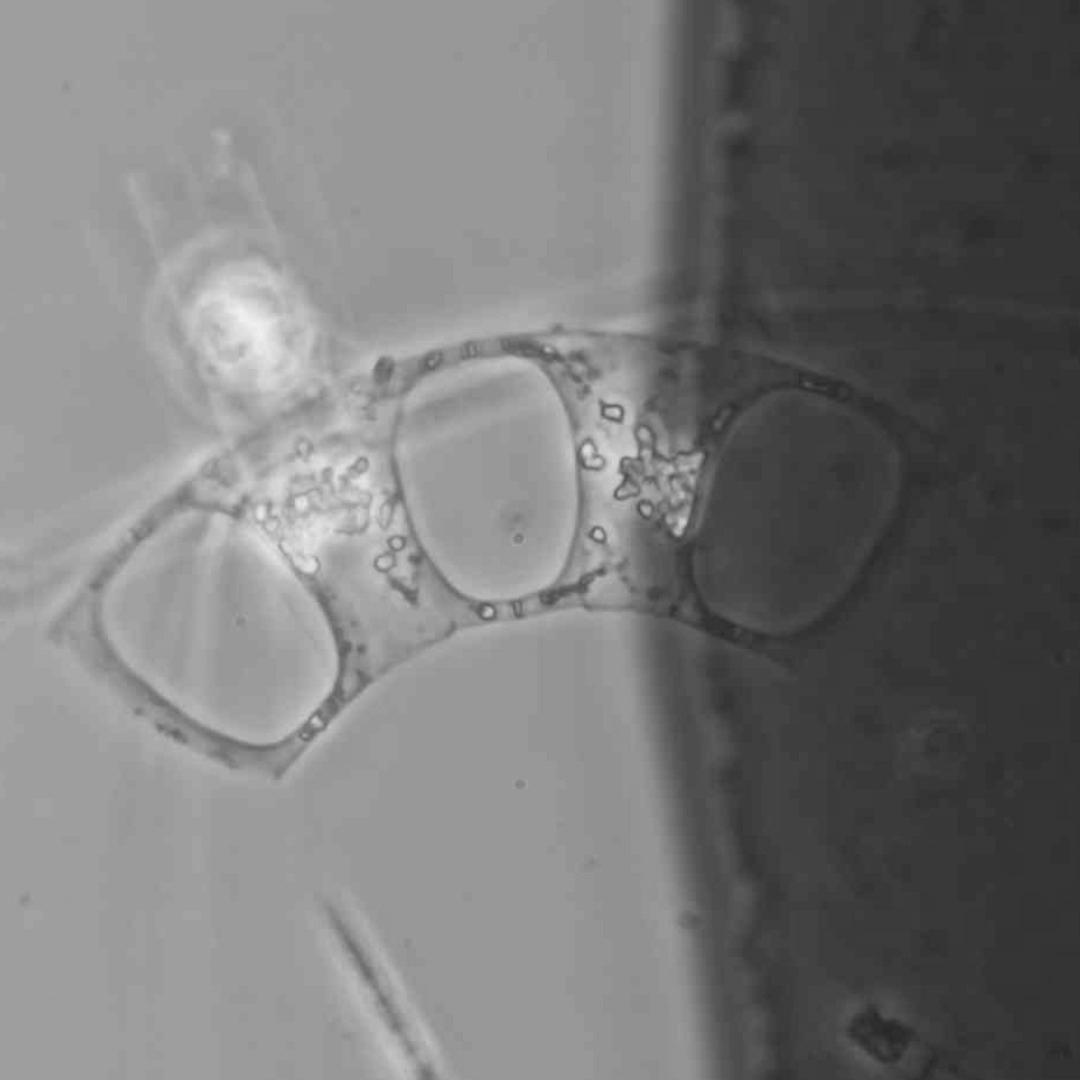eucampia_zodiacus: (34, 327, 998, 789)
